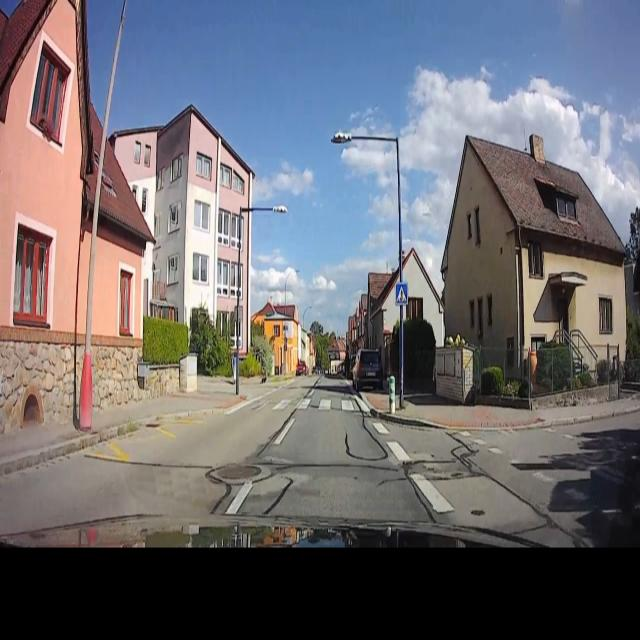Pedestrian crosswalk: (251, 390, 365, 414), (394, 281, 409, 305)
